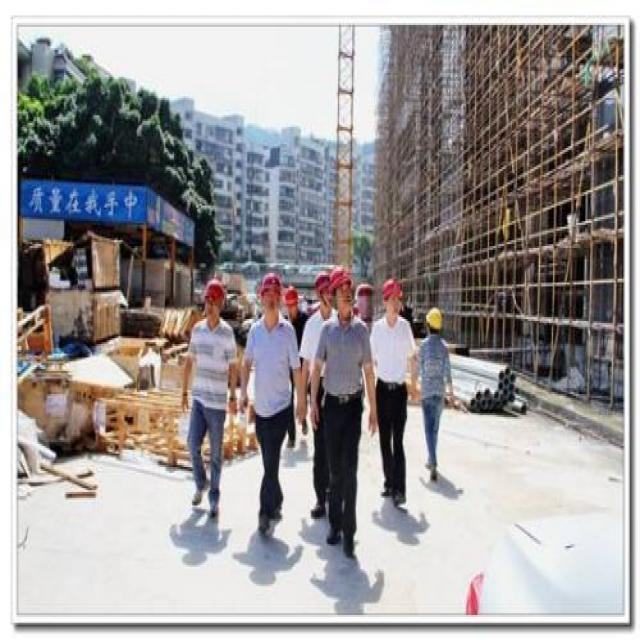hat: (256, 267, 286, 323), (200, 275, 230, 325), (330, 263, 357, 317), (312, 267, 333, 321), (382, 273, 405, 319), (421, 302, 446, 343), (279, 279, 303, 315)
